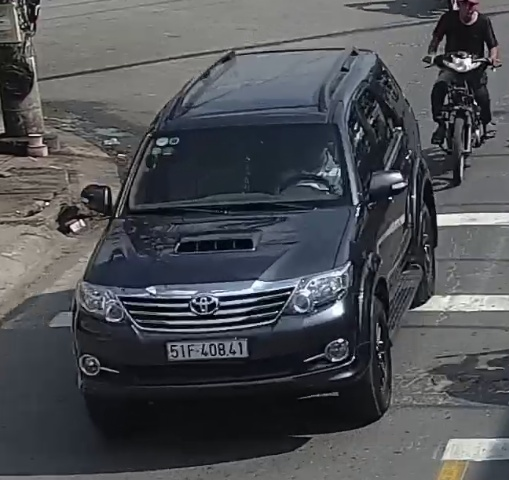vehicle plate: (165, 334, 255, 358)
